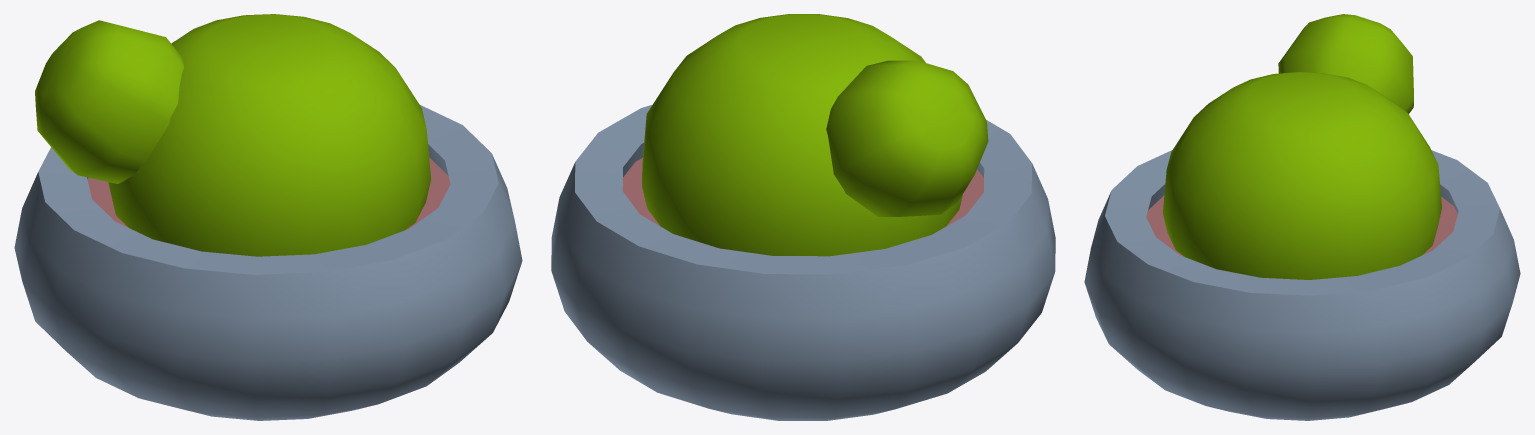
The model's file is Decoration_Plant1.fbx.
3 views of the same model, side by side, from view 1: azimuth 30°, elevation 25°; view 2: azimuth 150°, elevation 25°; view 3: azimuth 270°, elevation 25° (orthographic). The views are drawn at different scales.
Parts seen in each view (by area): view 1: Decoration_Plant1; view 2: Decoration_Plant1; view 3: Decoration_Plant1.
Part boxes in pixels (box(x1,y1,x2,y2)): Decoration_Plant1: box(14, 14, 522, 420); Decoration_Plant1: box(551, 14, 1055, 420); Decoration_Plant1: box(1084, 14, 1520, 420).
Bounding box in the file's own units: 109 × 83.77 × 109.
